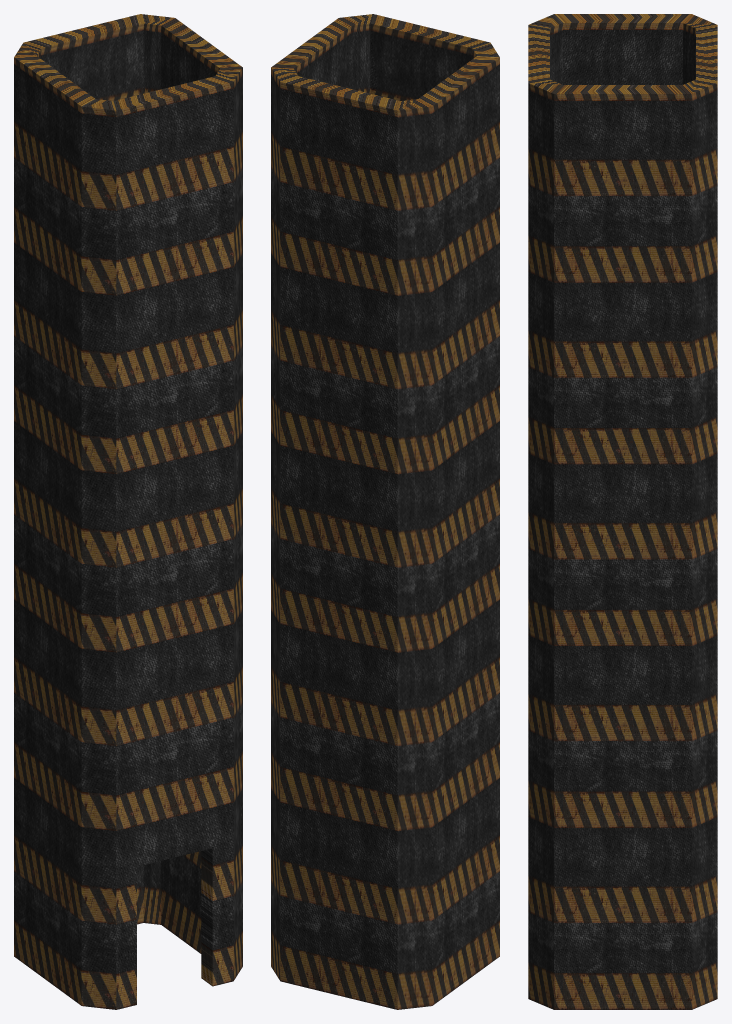
Rendered from wf_elevator_shaft.fbx.
The picture shows the model from 3 angles, left to right: view 1: azimuth 30°, elevation 25°; view 2: azimuth 150°, elevation 25°; view 3: azimuth 270°, elevation 25°; orthographic projection.
Parts seen in each view (by area): view 1: Cube; view 2: Cube; view 3: Cube.
Part boxes in pixels (box(x1,y1,x2,y2)): Cube: box(14, 14, 242, 1009); Cube: box(271, 14, 499, 1009); Cube: box(528, 14, 717, 1009).
Size of the model in its own units: 900 by 4800 by 900.
Materials: 1 (1 with a texture image).
